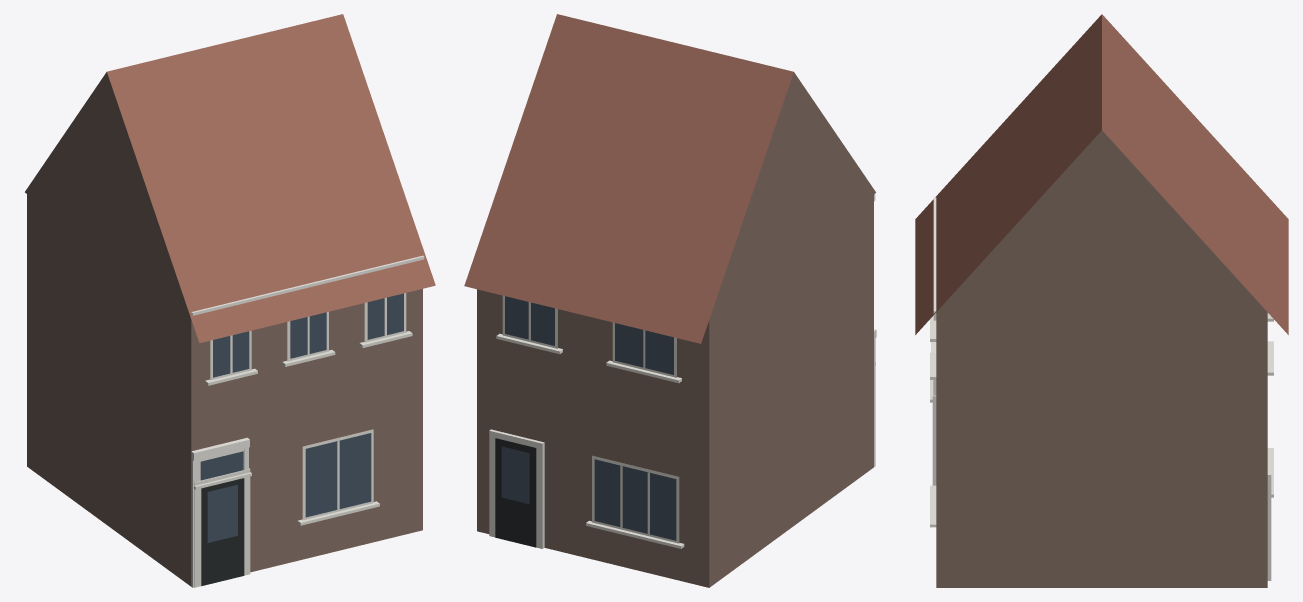
The model's file is nn-row-small__small-grey__2__gable__long__solid.glb.
The picture shows the model from 3 angles, left to right: view 1: azimuth 30°, elevation 25°; view 2: azimuth 150°, elevation 25°; view 3: azimuth 270°, elevation 25°; orthographic projection.
Parts seen in each view (by area): view 1: nn-row-small__small-grey__2__gable__long__solid; view 2: nn-row-small__small-grey__2__gable__long__solid; view 3: nn-row-small__small-grey__2__gable__long__solid.
Boxes of the visible parts, x1,y1,x2,y2 form: nn-row-small__small-grey__2__gable__long__solid: (25,14,435,587); nn-row-small__small-grey__2__gable__long__solid: (464,14,876,587); nn-row-small__small-grey__2__gable__long__solid: (915,14,1288,587).
Size of the model in its own units: 5.22 by 9.62 by 7.09.
